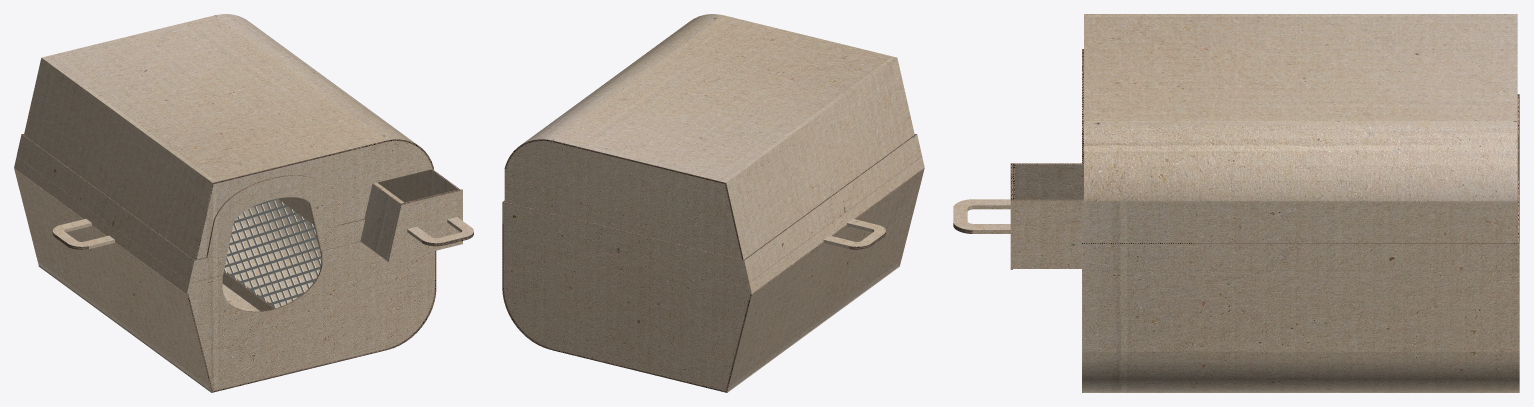
File: AreneroGato.gltf
The picture shows the model from 3 angles, left to right: view 1: azimuth 30°, elevation 25°; view 2: azimuth 150°, elevation 25°; view 3: azimuth 270°, elevation 25°; orthographic projection. The views are drawn at different scales.
Visible parts, largest first — view 1: root; view 2: root; view 3: root.
Boxes of the visible parts, x1,y1,x2,y2 form: root: (14,14,473,392); root: (502,14,924,392); root: (953,14,1519,392).
Size of the model in its own units: 0.5786 by 0.406 by 0.7764.
3 materials, 2 textured.
